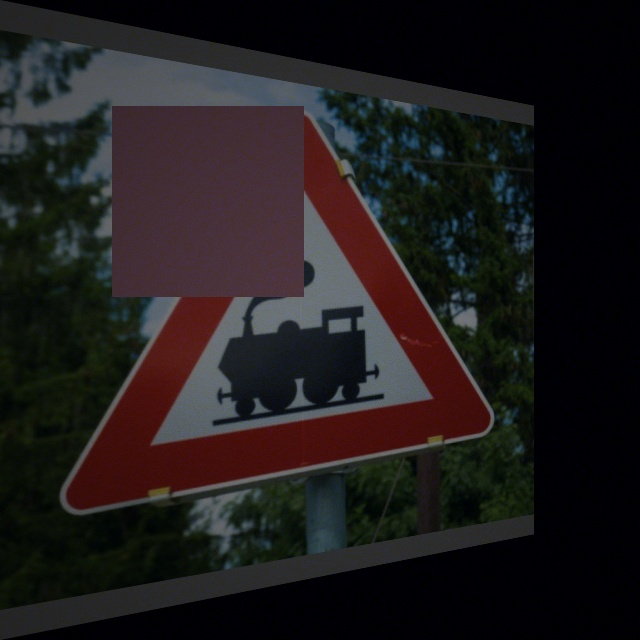Unguarded_Level_Crossing: (81, 78, 486, 502)
